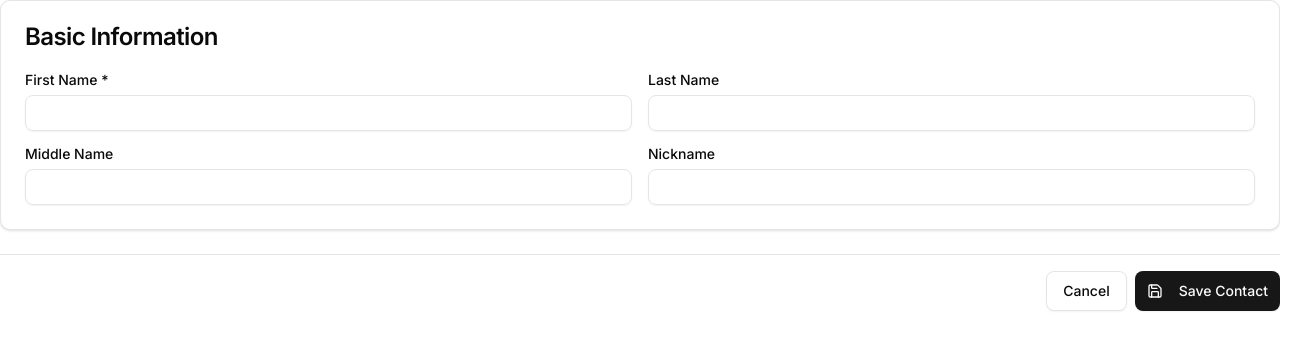
Test: ContactForm › validates required fields
This screenshot has width=1292, height=356.
Click the button "Save Contact" at (1207, 291), box top-left (1135, 271), bottom-right (1280, 311)
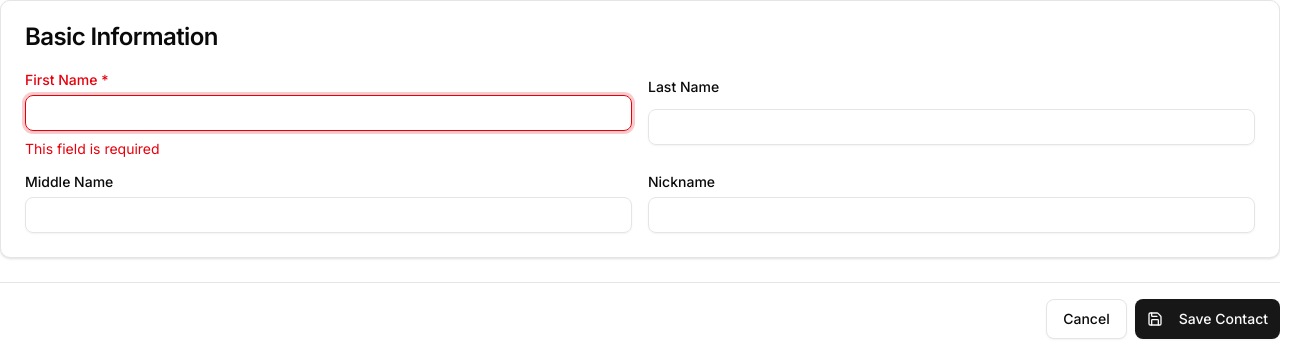
Result: the text "This field is required" is shown at top-left (25, 140), bottom-right (160, 157)
